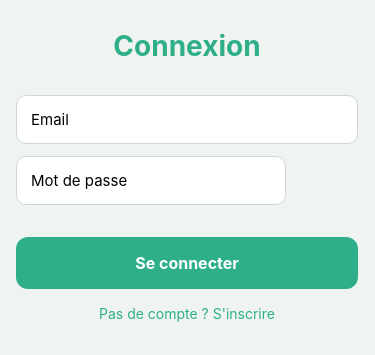
Test: LoginPage › affiche un message d erreur si la connexion echoue
In the field with placeholder "Email": (187, 119) x1=16 y1=94 x2=358 y2=144, type "test@cesizen.fr"
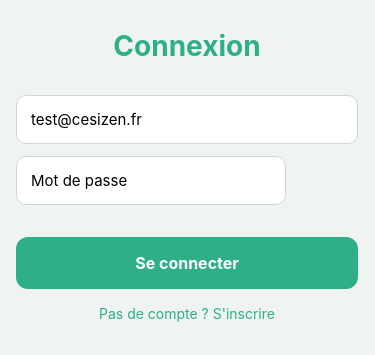
In the password field with placeholder "Mot de passe": (151, 180) x1=16 y1=156 x2=286 y2=204, type "mauvais"
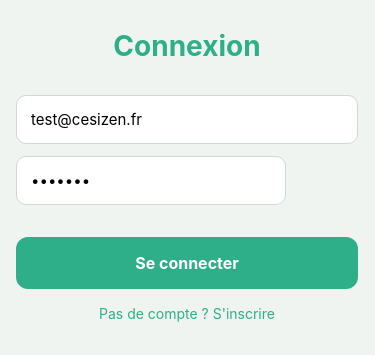
Click the element showing "Se connecter": (187, 262) x1=16 y1=236 x2=358 y2=288
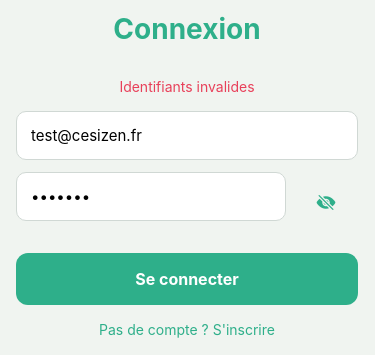
Expected: the text "Identifiants invalides" is shown, x1=119 y1=78 x2=255 y2=95
